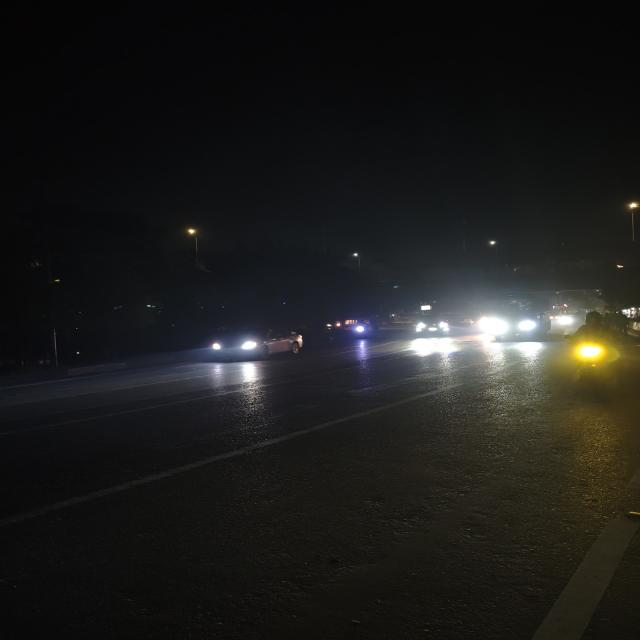bus: (482, 296, 555, 340)
car: (205, 327, 308, 364), (408, 316, 455, 339)
motorcycle: (556, 309, 633, 403)
